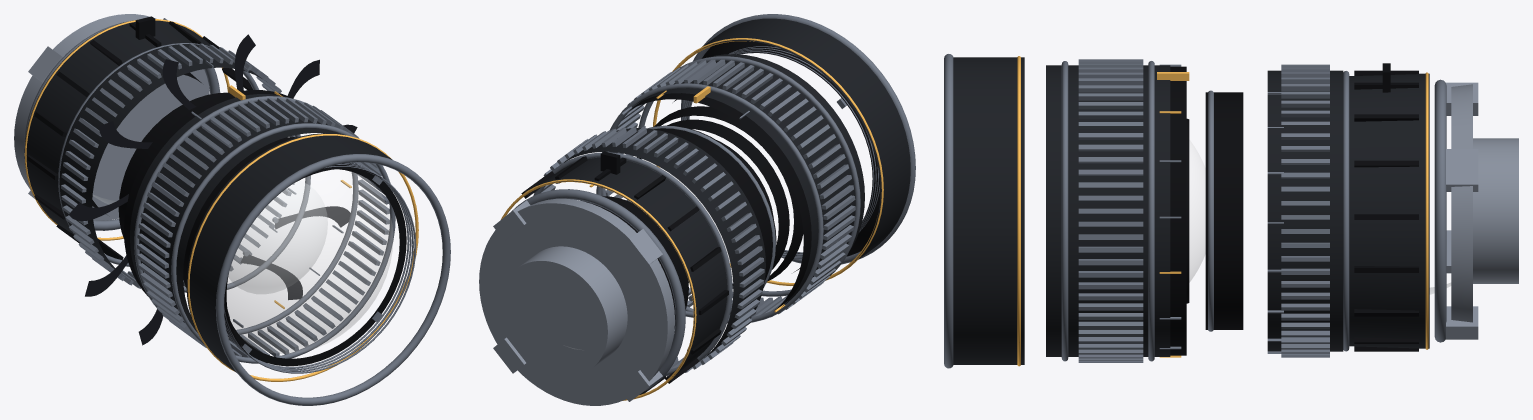
File: obsidian-lens.glb
The picture shows the model from 3 angles, left to right: view 1: azimuth 30°, elevation 25°; view 2: azimuth 150°, elevation 25°; view 3: azimuth 270°, elevation 25°; orthographic projection. The views are drawn at different scales.
Parts seen in each view (by area): view 1: FrontOpticsGroup, FrontBezelGroup, FocusRingGroup, FocusGearTeeth, MidBarrelGroup, PLMountGroup, InternalOpticsGroup, ApertureRingGroup, ApertureGearTeeth, IrisAssemblyGroup, IrisBladeMesh_9, IrisBladeMesh_10 (+7 smaller); view 2: PLMountGroup, FrontBezelGroup, FocusRingGroup, MidBarrelGroup, FocusGearTeeth, ApertureRingGroup, ApertureGearTeeth, InternalOpticsGroup, IrisAssemblyGroup, RearOpticsGroup; view 3: FocusRingGroup, FrontBezelGroup, MidBarrelGroup, PLMountGroup, FocusGearTeeth, ApertureRingGroup, ApertureGearTeeth, IrisAssemblyGroup, FrontOpticsGroup, InternalOpticsGroup.
Part boxes in pixels (left/top/right/bottom): FrontOpticsGroup: left=183, top=137, right=392, bottom=353; FrontBezelGroup: left=186, top=133, right=450, bottom=405; FocusRingGroup: left=124, top=90, right=395, bottom=363; FocusGearTeeth: left=137, top=97, right=389, bottom=357; MidBarrelGroup: left=24, top=16, right=259, bottom=266; PLMountGroup: left=14, top=14, right=220, bottom=230; InternalOpticsGroup: left=229, top=181, right=327, bottom=293; ApertureRingGroup: left=59, top=44, right=296, bottom=273; ApertureGearTeeth: left=61, top=43, right=294, bottom=288; IrisAssemblyGroup: left=118, top=92, right=310, bottom=292; IrisBladeMesh_9: left=240, top=254, right=302, bottom=300; IrisBladeMesh_10: left=275, top=206, right=350, bottom=229; PLMountGroup: left=479, top=189, right=685, bottom=405; FrontBezelGroup: left=653, top=14, right=915, bottom=285; FocusRingGroup: left=589, top=54, right=864, bottom=323; MidBarrelGroup: left=501, top=151, right=732, bottom=400; FocusGearTeeth: left=605, top=59, right=855, bottom=317; ApertureRingGroup: left=556, top=126, right=765, bottom=357; ApertureGearTeeth: left=534, top=127, right=764, bottom=376; InternalOpticsGroup: left=637, top=106, right=803, bottom=285; IrisAssemblyGroup: left=596, top=125, right=776, bottom=317; RearOpticsGroup: left=569, top=196, right=688, bottom=349; FocusRingGroup: left=1046, top=61, right=1186, bottom=361; FrontBezelGroup: left=944, top=54, right=1024, bottom=368; MidBarrelGroup: left=1343, top=63, right=1429, bottom=351; PLMountGroup: left=1434, top=79, right=1518, bottom=342; FocusGearTeeth: left=1078, top=59, right=1143, bottom=362; ApertureRingGroup: left=1267, top=70, right=1343, bottom=353; ApertureGearTeeth: left=1281, top=64, right=1329, bottom=357; IrisAssemblyGroup: left=1205, top=90, right=1243, bottom=331; FrontOpticsGroup: left=1189, top=140, right=1205, bottom=281; InternalOpticsGroup: left=1186, top=118, right=1189, bottom=303.
Size of the model in its own units: 0.145 by 0.1446 by 0.2128.
